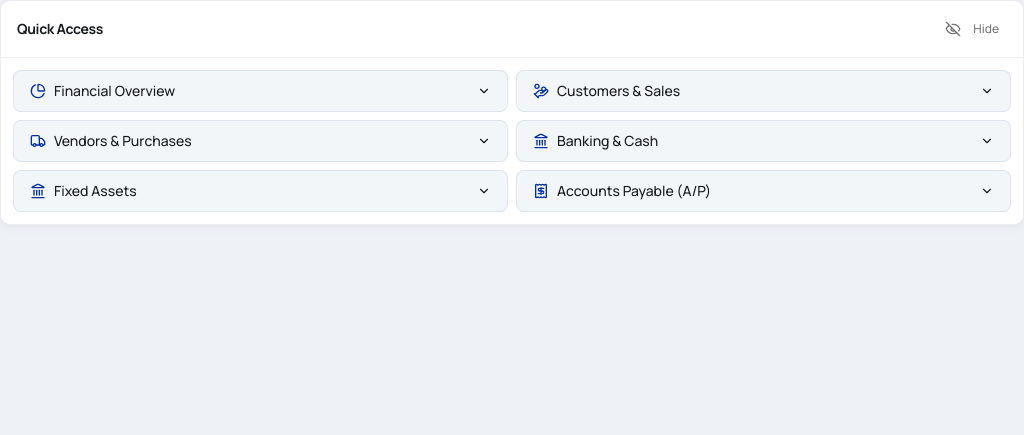
DashboardShortcutBar › hides links blocked by permissions
Click the button "Customers & Sales" at (619, 90), box [525,71,1002,111]
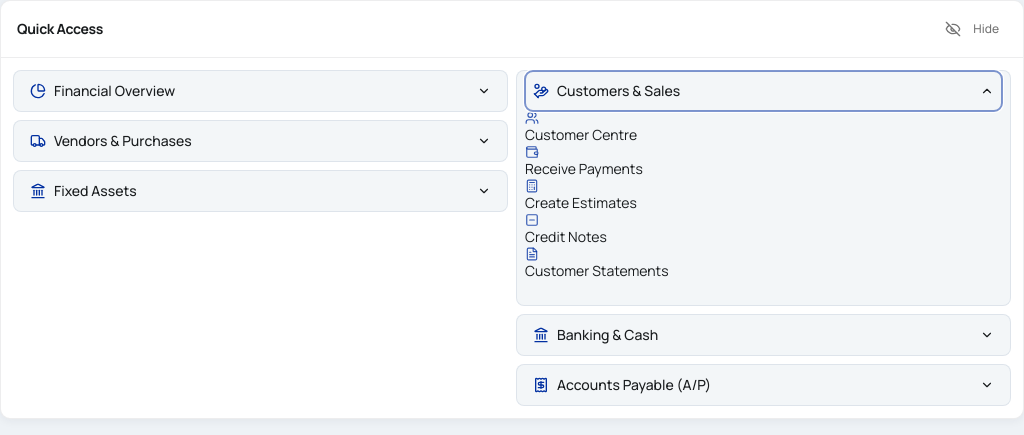
Expected: the link "Customer Centre" is shown, [525,111,637,144]
